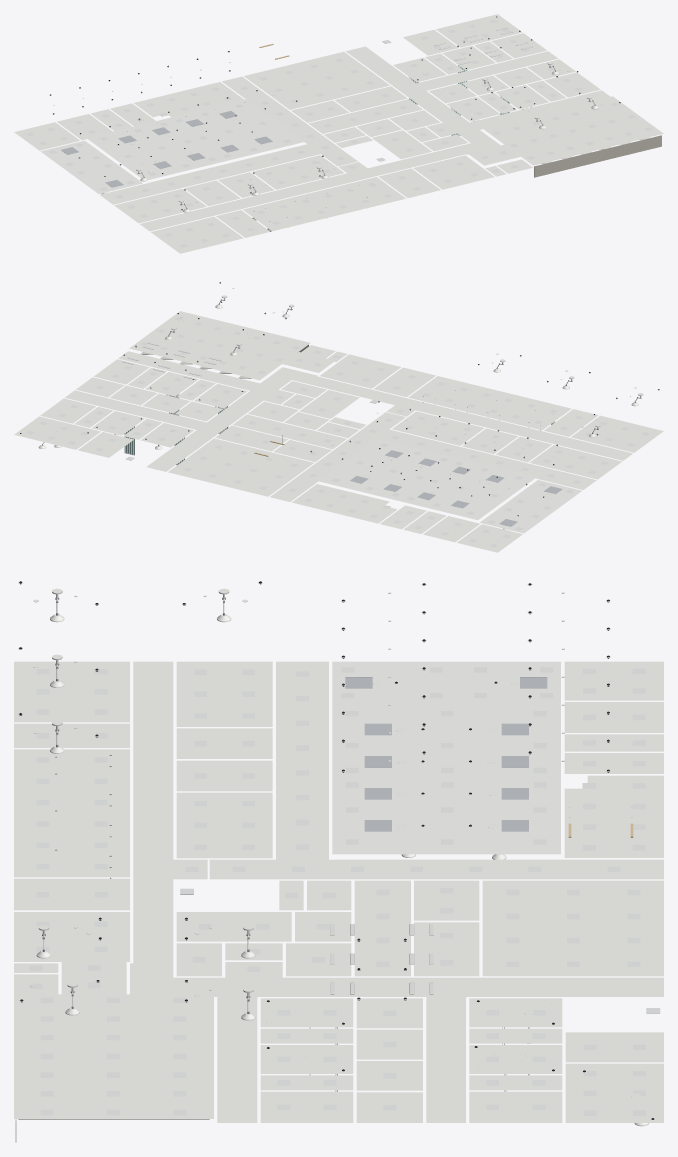
The model's file is 15_n1_plafones.glb.
3 views of the same model, one above another, from view 1: azimuth 30°, elevation 25°; view 2: azimuth 150°, elevation 25°; view 3: azimuth 270°, elevation 25° (orthographic). The views are drawn at different scales.
Visible parts, largest first — view 1: Plafón de pasillos N1, plafón · Macro quirófano · 8 mesas · h libre 3.60 m, plafón · Sala de usos múltiples · 80-100 asistentes · h libr, plafón · Sala de microcirugía · 16 estaciones, plafón · Sala de café, plafón · Sala de cirugía robótica, plafón · Bodega de material quirúrgico e insumos, plafón · Sala de máquinas y gases medicinales, bafles acústicos y persiana, plafón · Vestidor de quirófano · hombres · lockers, plafón · Vestidor de quirófano · mujeres · lockers, plafón · Lobby, recepción y vigilancia (+30 smaller); view 2: Plafón de pasillos N1, plafón · Macro quirófano · 8 mesas · h libre 3.60 m, plafón · Sala de usos múltiples · 80-100 asistentes · h libr, plafón · Sala de microcirugía · 16 estaciones, plafón · Sala de café, plafón · Sala de cirugía robótica, plafón · Bodega de material quirúrgico e insumos, plafón · Sala de máquinas y gases medicinales, plafón · Vestidor de quirófano · mujeres · lockers, plafón · Vestidor de quirófano · hombres · lockers, plafón · Lobby, recepción y vigilancia, plafón · Atención al politraumatizado y recepción de ambulan (+27 smaller); view 3: Plafón de pasillos N1, plafón · Macro quirófano · 8 mesas · h libre 3.60 m, plafón · Sala de usos múltiples · 80-100 asistentes · h libr, plafón · Sala de microcirugía · 16 estaciones, plafón · Sala de café, plafón · Sala de cirugía robótica, plafón · Bodega de material quirúrgico e insumos, plafón · Sala de máquinas y gases medicinales, plafón · Vestidor de quirófano · mujeres · lockers, plafón · Vestidor de quirófano · hombres · lockers, plafón · Atención al politraumatizado y recepción de ambulan, plafón · Lobby, recepción y vigilancia (+34 smaller).
Part boxes in pixels (box(x1,y1,x2,y2)): Plafón de pasillos N1: box(100, 46, 610, 231); plafón · Macro quirófano · 8 mesas · h libre 3.60 m: box(86, 99, 304, 179); plafón · Sala de usos múltiples · 80-100 asistentes · h libr: box(482, 96, 663, 165); plafón · Sala de microcirugía · 16 estaciones: box(244, 51, 389, 109); plafón · Sala de café: box(243, 177, 405, 231); plafón · Sala de cirugía robótica: box(40, 140, 142, 193); plafón · Bodega de material quirúrgico e insumos: box(134, 82, 243, 117); plafón · Sala de máquinas y gases medicinales: box(151, 216, 243, 253); bafles acústicos y persiana: box(534, 135, 661, 177); plafón · Vestidor de quirófano · hombres · lockers: box(114, 188, 206, 223); plafón · Vestidor de quirófano · mujeres · lockers: box(252, 155, 344, 189); plafón · Lobby, recepción y vigilancia: box(413, 155, 494, 189); Plafón de pasillos N1: box(65, 351, 632, 501); plafón · Macro quirófano · 8 mesas · h libre 3.60 m: box(318, 438, 536, 520); plafón · Sala de usos múltiples · 80-100 asistentes · h libr: box(129, 311, 310, 380); plafón · Sala de microcirugía · 16 estaciones: box(168, 438, 313, 496); plafón · Sala de café: box(408, 376, 571, 430); plafón · Sala de cirugía robótica: box(480, 480, 581, 533); plafón · Bodega de material quirúrgico e insumos: box(292, 484, 397, 523); plafón · Sala de máquinas y gases medicinales: box(571, 415, 663, 452); plafón · Vestidor de quirófano · mujeres · lockers: box(392, 411, 484, 445); plafón · Vestidor de quirófano · hombres · lockers: box(529, 445, 621, 479); plafón · Lobby, recepción y vigilancia: box(320, 354, 400, 388); plafón · Atención al politraumatizado y recepción de ambulan: box(14, 416, 100, 449); Plafón de pasillos N1: box(130, 661, 663, 1122); plafón · Macro quirófano · 8 mesas · h libre 3.60 m: box(332, 701, 560, 854); plafón · Sala de usos múltiples · 80-100 asistentes · h libr: box(14, 994, 213, 1118); plafón · Sala de microcirugía · 16 estaciones: box(482, 880, 663, 976); plafón · Sala de café: box(14, 749, 129, 877); plafón · Sala de cirugía robótica: box(332, 661, 560, 701); plafón · Bodega de material quirúrgico e insumos: box(564, 775, 663, 857); plafón · Sala de máquinas y gases medicinales: box(14, 661, 129, 722); plafón · Vestidor de quirófano · mujeres · lockers: box(176, 792, 272, 858); plafón · Vestidor de quirófano · hombres · lockers: box(176, 661, 272, 726); plafón · Atención al politraumatizado y recepción de ambulan: box(565, 1063, 663, 1122); plafón · Lobby, recepción y vigilancia: box(14, 912, 129, 961).
Size of the model in its own units: 49.4 by 7.16 by 29.4.
Materials: 23 (3 with a texture image).
